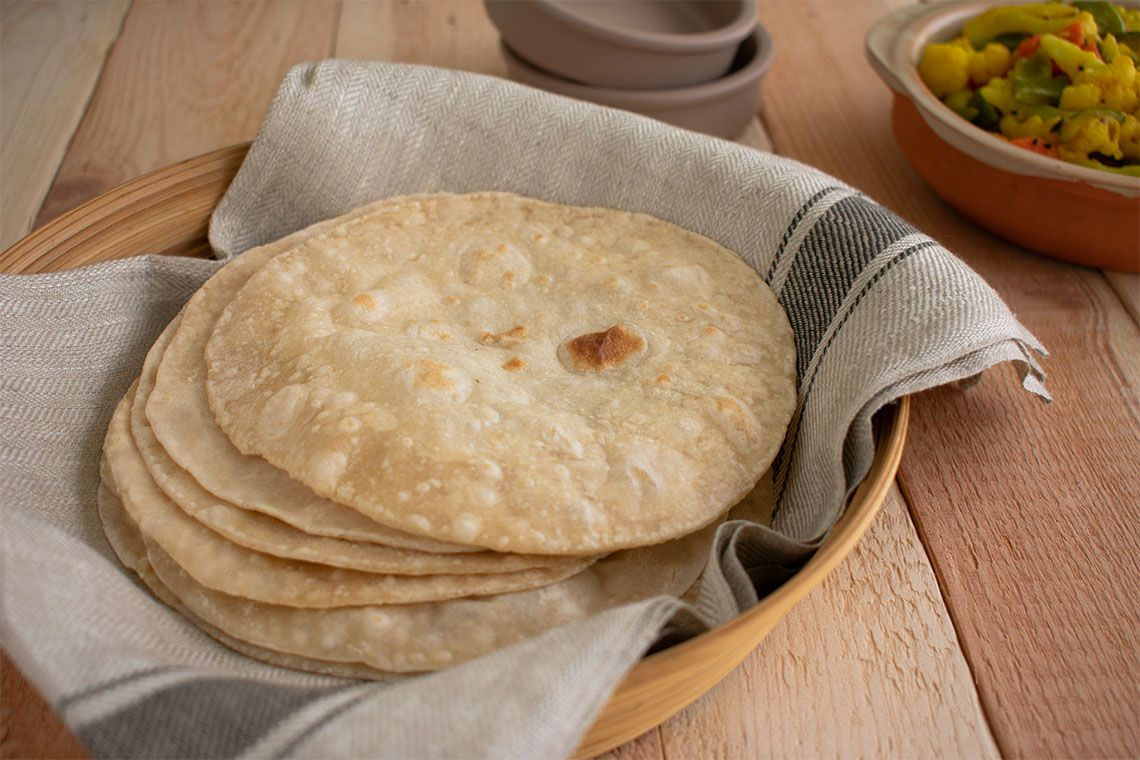Farata: (64, 133, 820, 649)
